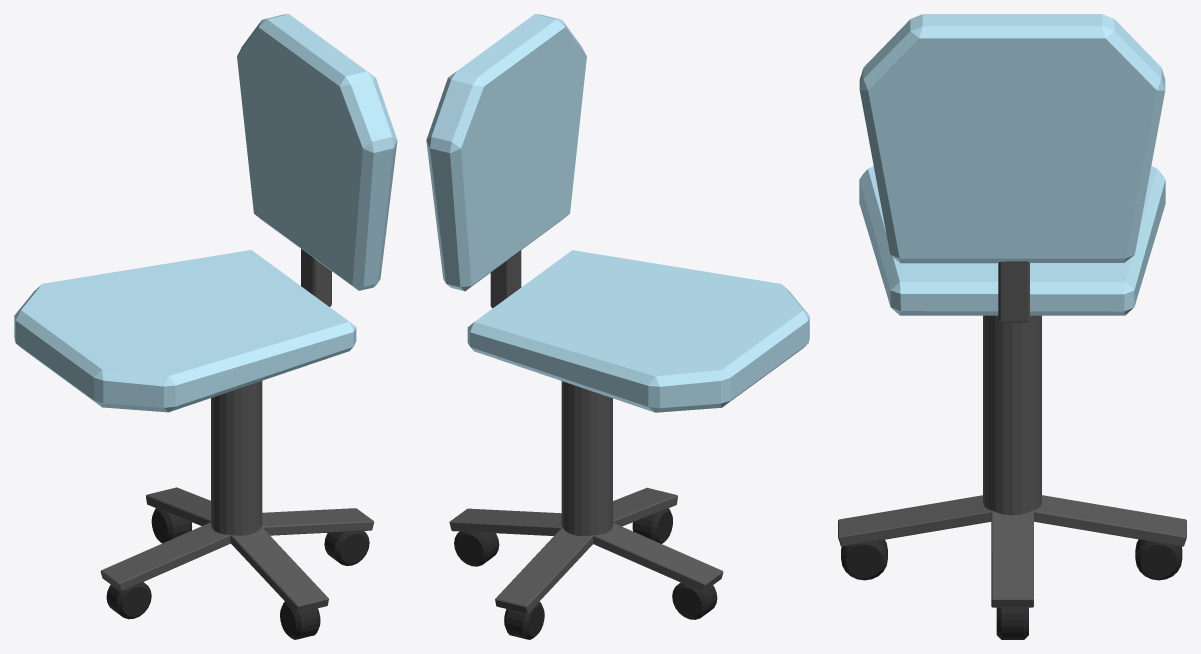
Rendered from Chair (updated).fbx.
3 renders of one model, left to right at view 1: azimuth 30°, elevation 25°; view 2: azimuth 150°, elevation 25°; view 3: azimuth 270°, elevation 25°, orthographic. The views are drawn at different scales.
Visible parts, largest first — view 1: Chair; view 2: Chair; view 3: Chair.
Part boxes in pixels (<box>): Chair: <box>14,14,397,639</box>; Chair: <box>426,14,809,639</box>; Chair: <box>838,14,1186,639</box>.
Bounding box in the file's own units: 258 × 416 × 219.
